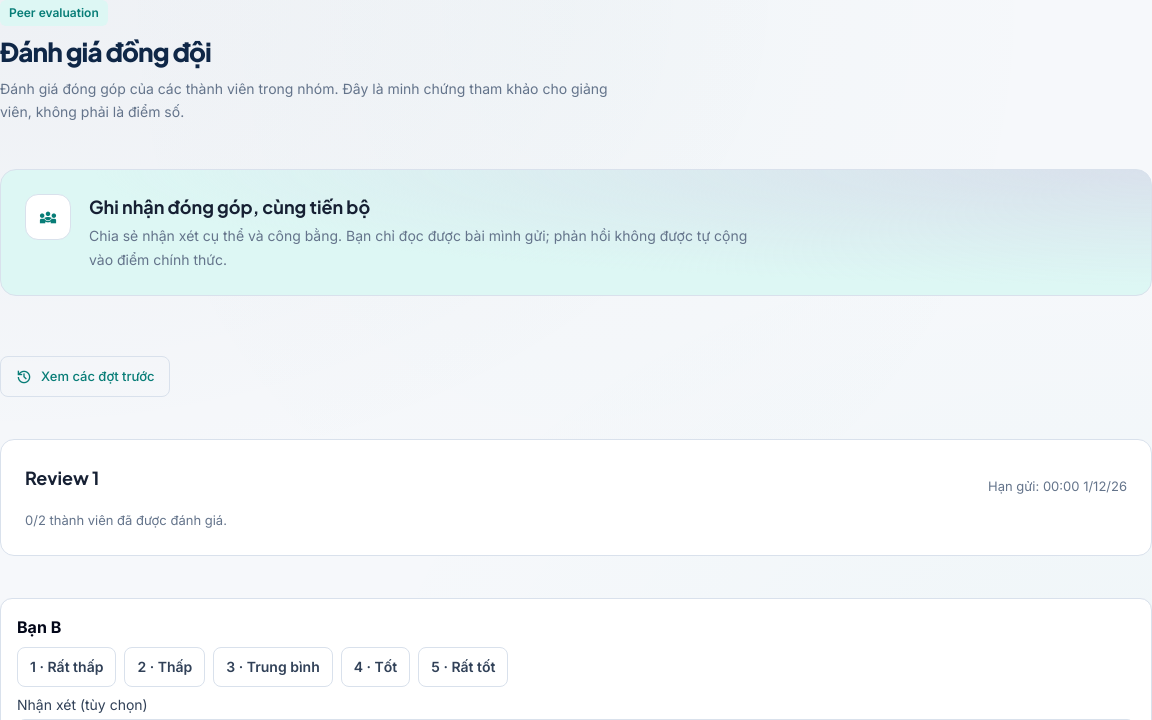
it: ProjectPeerEvaluationPage › submits by saving the draft then submitting with the returned token, and refetches
The image size is (1152, 720).
Check: the heading "Bạn B" is shown, box [17,617,61,637]
Click the button "4 · Tốt".
click(376, 667)  # box [341,647,410,687]
(page scrolled)
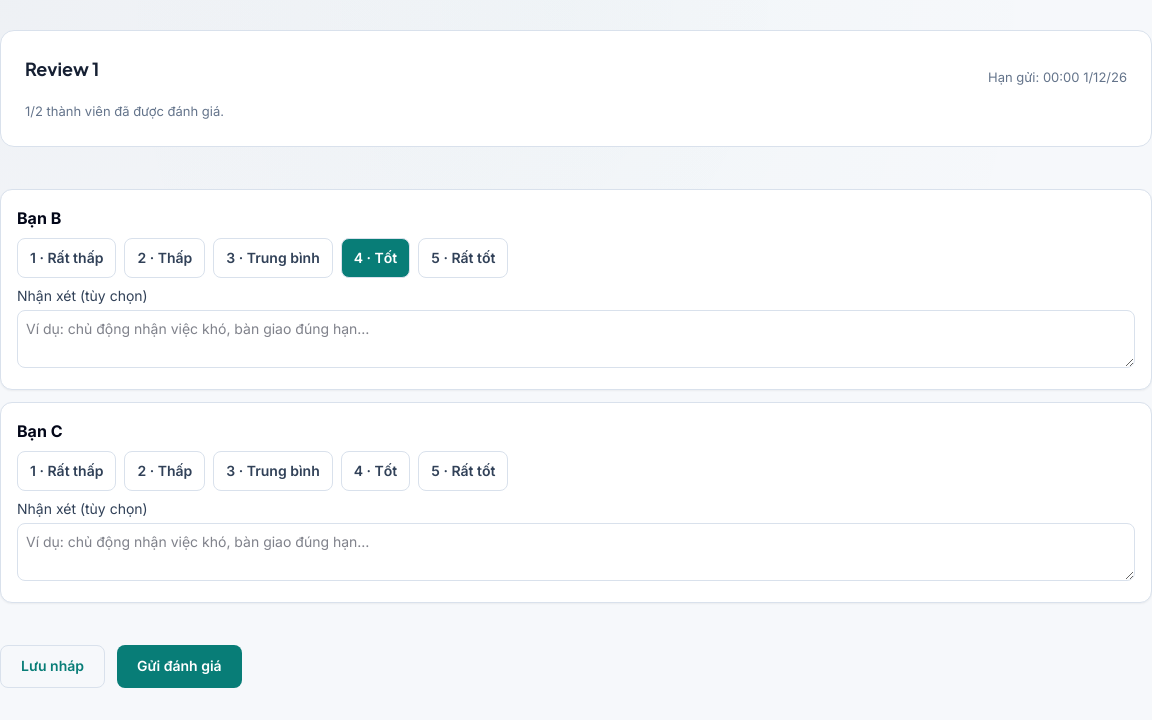
Click the 2nd button "5 · Rất tốt".
click(463, 471)  # box [418,451,508,491]
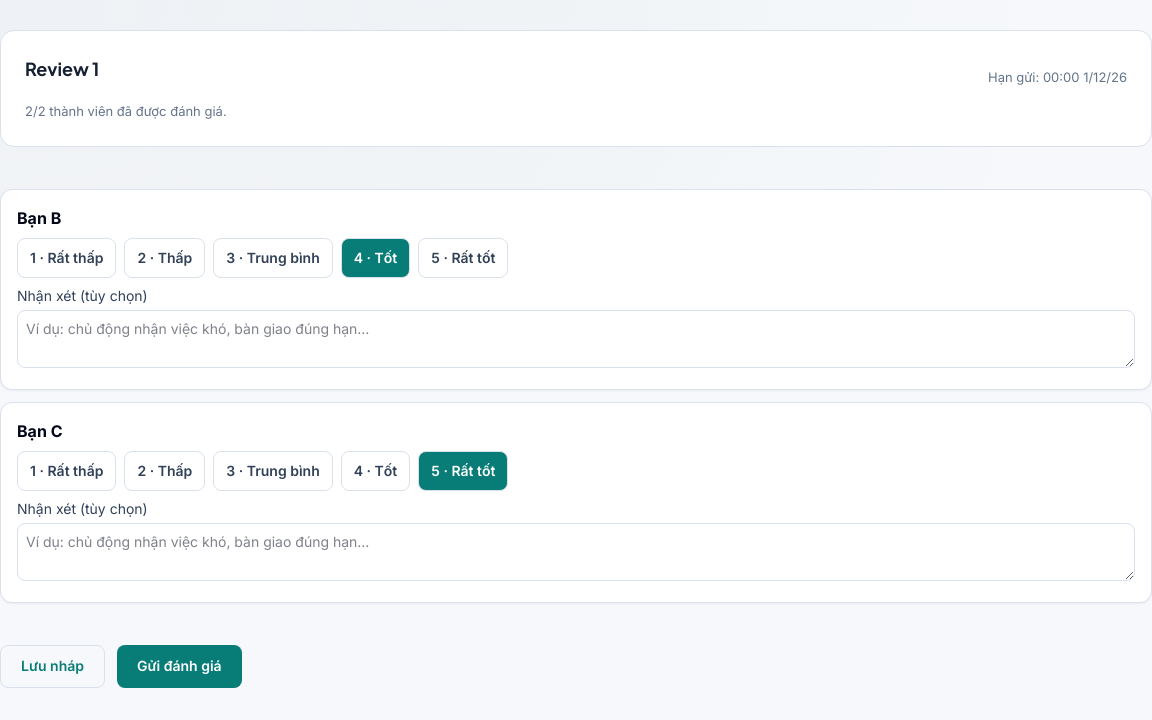
Click the button "Gửi đánh giá".
click(179, 666)  # box [117,645,242,688]
(page scrolled)
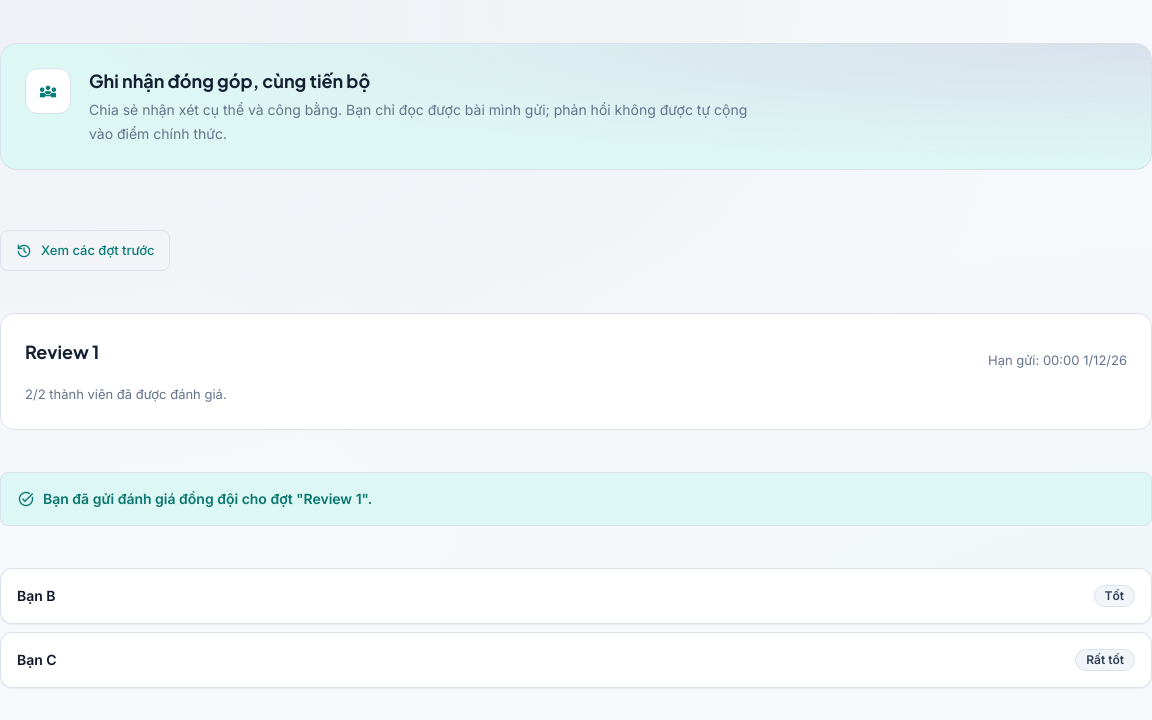
Check: the text "Bạn đã gửi đánh giá đồng đội cho đợt \"Review 1\"." is shown, box [0,472,1151,526]
